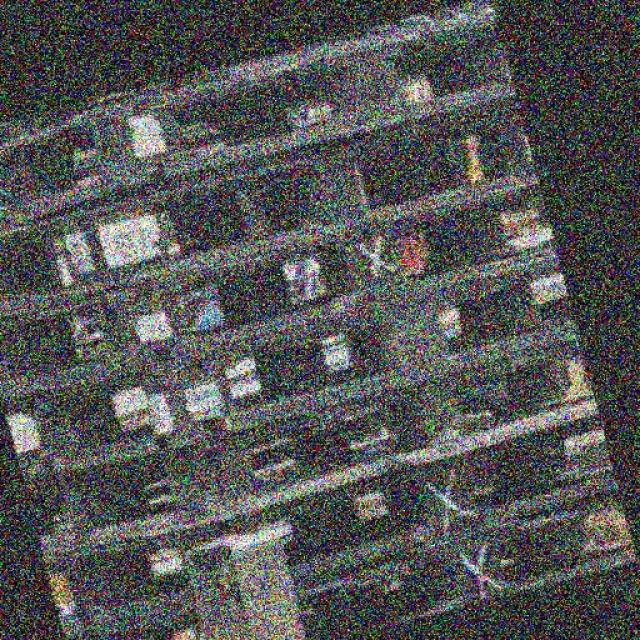igps: (11, 308, 604, 576), (0, 228, 591, 492), (53, 385, 626, 640), (0, 73, 549, 332), (0, 163, 562, 414), (0, 1, 523, 246), (286, 472, 639, 639)
